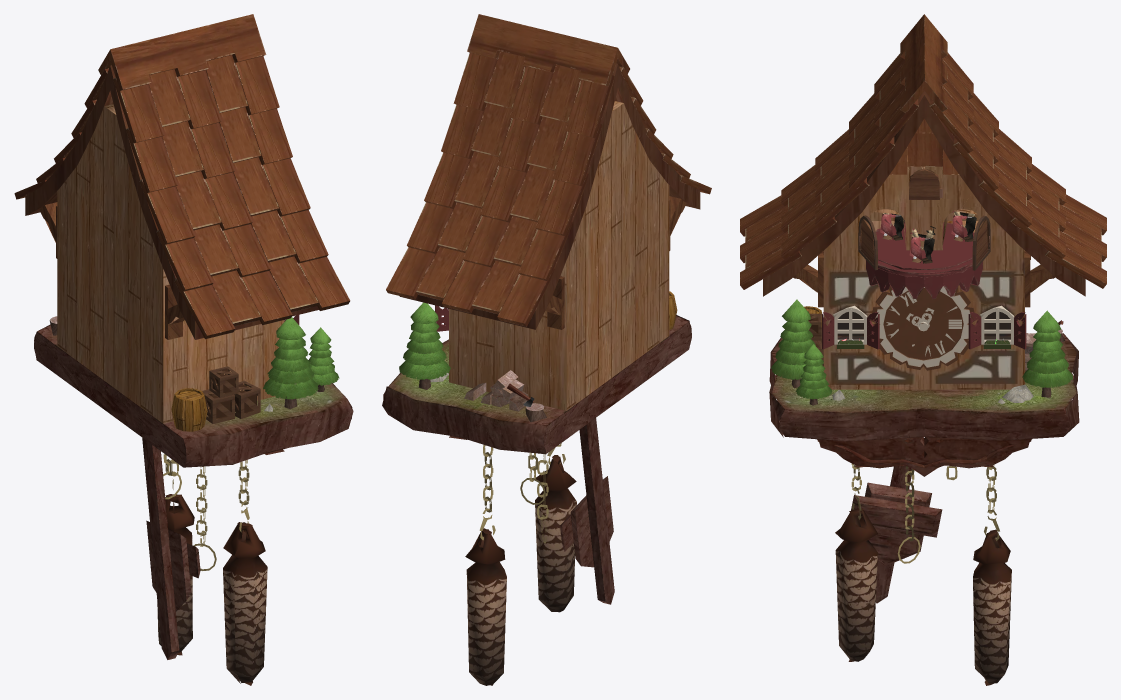
Rendered from obj_wooden_cuckoo_clock.glb.
3 views of the same model, side by side, from view 1: azimuth 30°, elevation 25°; view 2: azimuth 150°, elevation 25°; view 3: azimuth 270°, elevation 25° (orthographic). The views are drawn at different scales.
Parts seen in each view (by area): view 1: polySurface1414_Rocks_0; view 2: polySurface1414_Rocks_0; view 3: polySurface1414_Rocks_0.
Part boxes in pixels (box(x1,y1,x2,y2)): polySurface1414_Rocks_0: box(14, 14, 353, 685); polySurface1414_Rocks_0: box(382, 14, 711, 685); polySurface1414_Rocks_0: box(740, 14, 1106, 685).
Size of the model in its own units: 0.1517 by 0.5495 by 0.2929.
Materials: 21 (21 with a texture image).
